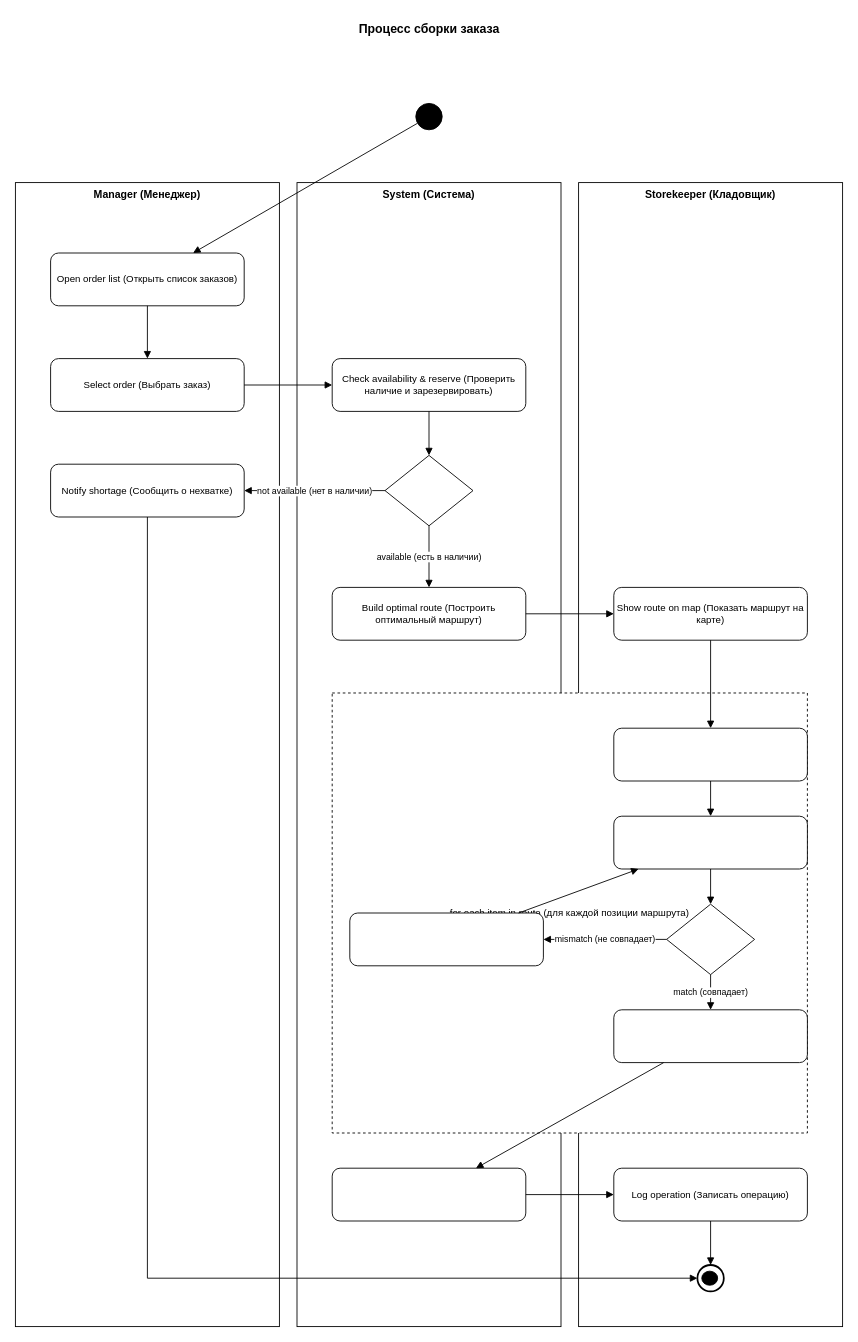
Some shapes in this 858 by 1342 pixel diagram are drawn without their labels. The centre of each missing label's shape, as x and y in pixels:
"Confirm item picked (Подтвердить сборку)" goes at (710,1036).
"Go to cell (Перейти к ячейке)" goes at (710,754).
"Report mismatch (Сообщить о несоответствии)" goes at (446,939).
"Scan item barcode (Сканировать ШК товара)" goes at (710,842).
"Update order status (Обновить статус заказа)" goes at (428,1194).
